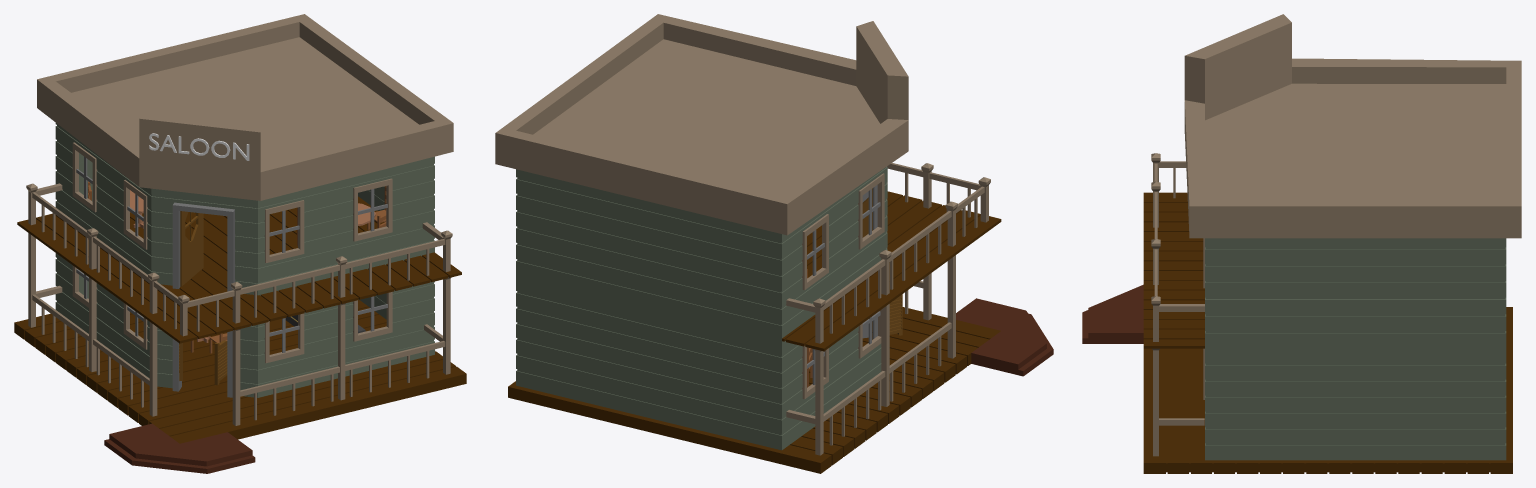
The model's file is Saloon.fbx.
The picture shows the model from 3 angles, left to right: view 1: azimuth 30°, elevation 25°; view 2: azimuth 150°, elevation 25°; view 3: azimuth 270°, elevation 25°; orthographic projection. The views are drawn at different scales.
Visible parts, largest first — view 1: Saloon_Merged; view 2: Saloon_Merged; view 3: Saloon_Merged.
Part boxes in pixels (bbox=[...]): Saloon_Merged: bbox=[14, 14, 466, 473]; Saloon_Merged: bbox=[495, 14, 1053, 473]; Saloon_Merged: bbox=[1082, 14, 1521, 473].
Bounding box in the file's own units: 716 × 567 × 714.
